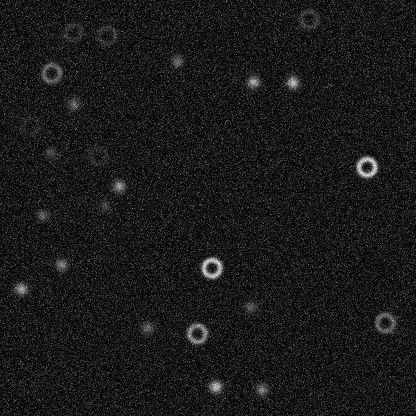Ring: (354, 154, 378, 178), (85, 144, 109, 168), (184, 321, 208, 345), (199, 255, 223, 279), (372, 310, 396, 334), (61, 20, 85, 44), (18, 113, 42, 137), (94, 22, 118, 46), (39, 60, 63, 84), (296, 7, 320, 31)
Spot: (96, 197, 112, 213), (139, 319, 155, 335), (53, 256, 69, 272), (168, 52, 184, 68), (284, 74, 300, 90), (13, 280, 29, 296), (34, 207, 50, 223), (42, 144, 58, 160), (245, 73, 261, 89), (253, 381, 269, 397), (207, 378, 223, 394), (110, 177, 126, 193), (242, 298, 258, 314), (65, 96, 81, 112)
